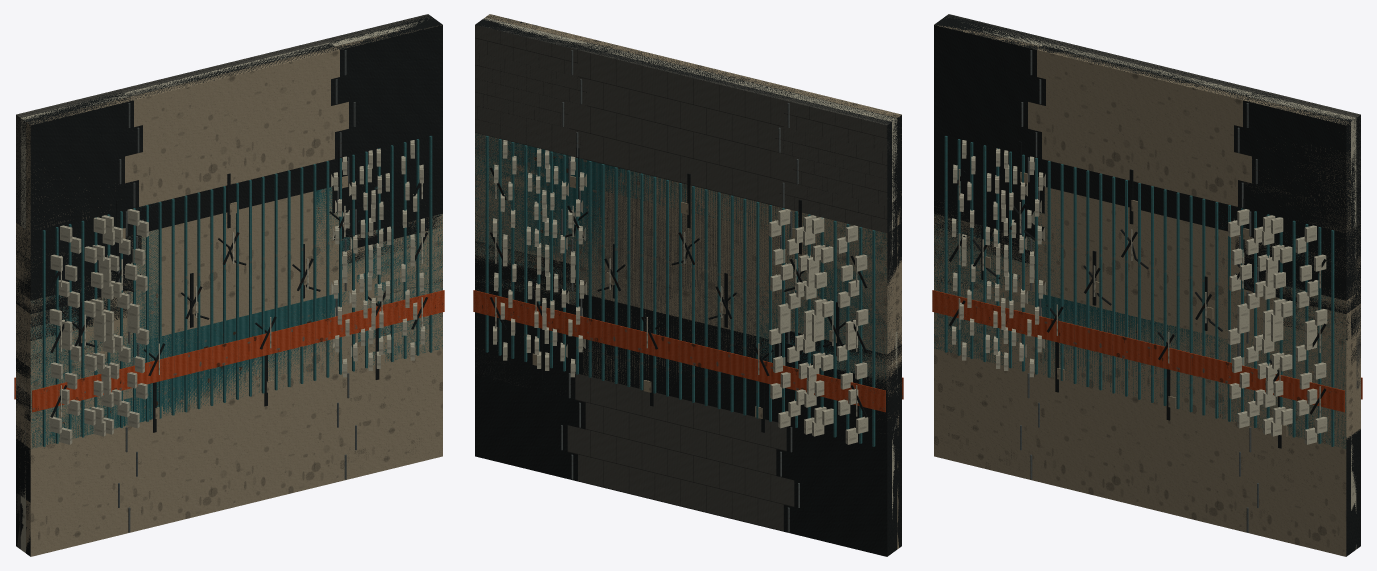
The model's file is panel-library-v1.fbx.
3 renders of one model, left to right at view 1: azimuth 30°, elevation 25°; view 2: azimuth 150°, elevation 25°; view 3: azimuth 330°, elevation 25°, orthographic.
Visible parts, largest first — view 1: layered_roof.Light, layered_roof.Heavy, concrete_partition.Light, corrugated_door.Light, corrugated_wall.Light, corrugated_door.Heavy, corrugated_window.Light, concrete_partition.Heavy, corrugated_wall.Heavy, corrugated_garage.Heavy, corrugated_window.Heavy, corrugated_garage.Light.proxy2 (+22 smaller); view 2: layered_roof.Light, concrete_partition.Light, layered_roof.Heavy, corrugated_door.Light, corrugated_wall.Light, corrugated_door.Heavy, corrugated_window.Light.proxy2, concrete_partition.Heavy, corrugated_wall.Heavy, corrugated_garage.Heavy, corrugated_window.Light, corrugated_window.Heavy (+25 smaller); view 3: layered_roof.Light, concrete_partition.Light, layered_roof.Heavy, corrugated_wall.Light, corrugated_door.Heavy, corrugated_door.Light, concrete_partition.Heavy, corrugated_window.Light, corrugated_wall.Heavy, corrugated_garage.Heavy, layered_roof.Light.proxy0, corrugated_window.Heavy (+27 smaller).
Boxes of the visible parts, x1,y1,x2,y2 form: layered_roof.Light: (16,15,442,556); layered_roof.Heavy: (16,14,442,556); concrete_partition.Light: (16,203,442,448); corrugated_door.Light: (14,137,444,446); corrugated_wall.Light: (14,158,444,421); corrugated_door.Heavy: (14,136,444,447); corrugated_window.Light: (31,209,443,446); concrete_partition.Heavy: (16,162,442,448); corrugated_wall.Heavy: (15,153,442,428); corrugated_garage.Heavy: (14,140,444,447); corrugated_window.Heavy: (32,150,444,442); corrugated_garage.Light.proxy2: (91,145,390,243); layered_roof.Light: (475,15,900,548); concrete_partition.Light: (475,134,887,385); layered_roof.Heavy: (475,14,901,549); corrugated_door.Light: (473,134,903,446); corrugated_wall.Light: (473,159,902,421); corrugated_door.Heavy: (473,135,903,446); corrugated_window.Light.proxy2: (579,293,778,422); concrete_partition.Heavy: (475,133,901,417); corrugated_wall.Heavy: (473,152,884,428); corrugated_garage.Heavy: (473,135,886,444); corrugated_window.Light: (474,137,902,421); corrugated_window.Heavy: (475,137,886,434); layered_roof.Light: (934,15,1358,556); concrete_partition.Light: (934,187,1346,448); layered_roof.Heavy: (934,14,1360,556); corrugated_wall.Light: (933,159,1343,421); corrugated_door.Heavy: (932,136,1362,448); corrugated_door.Light: (932,137,1362,447); concrete_partition.Heavy: (934,162,1360,448); corrugated_window.Light: (933,185,1346,447); corrugated_wall.Heavy: (932,153,1361,428); corrugated_garage.Heavy: (932,140,1361,444); layered_roof.Light.proxy0: (935,15,1359,122); corrugated_window.Heavy: (934,150,1361,434).
Bounding box in the file's own units: 1600 × 1600 × 174.
7 materials, 7 textured.
